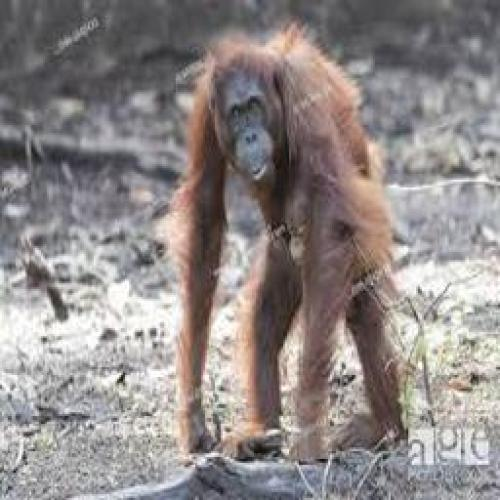orangutan-endangered: (165, 29, 404, 452)
